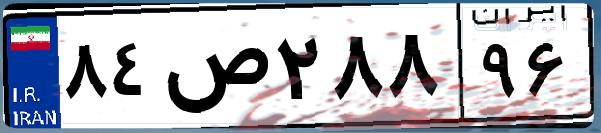2: (270, 28, 330, 110)
4: (110, 28, 158, 98)
6: (525, 38, 570, 115)
8: (385, 28, 445, 110), (330, 28, 385, 110), (57, 26, 110, 100)
9: (475, 38, 525, 113)
ص: (158, 20, 270, 120)
